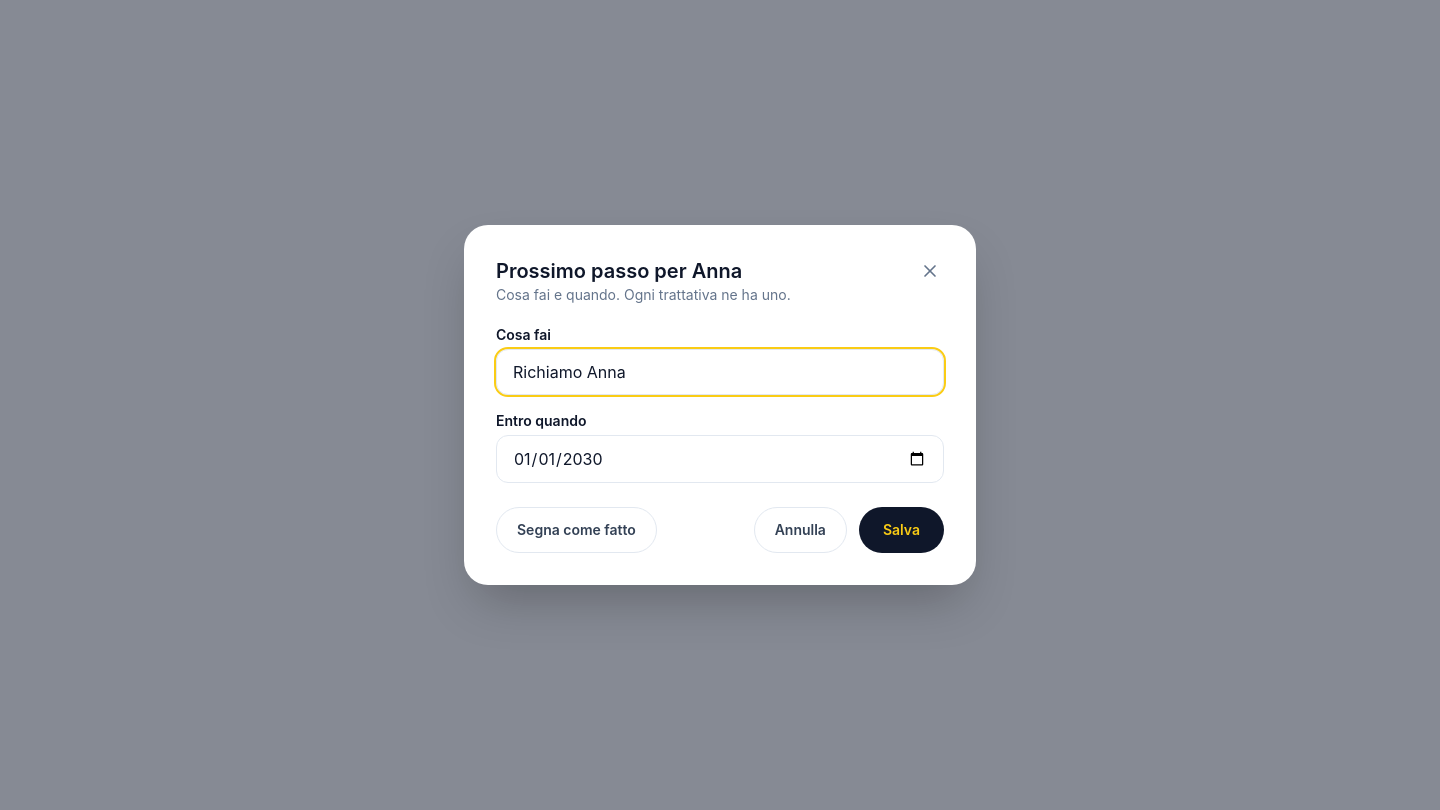
un errore del server si legge e il pannello resta aperto
Click the button "Salva" at (901, 530), box [859,507,944,553]
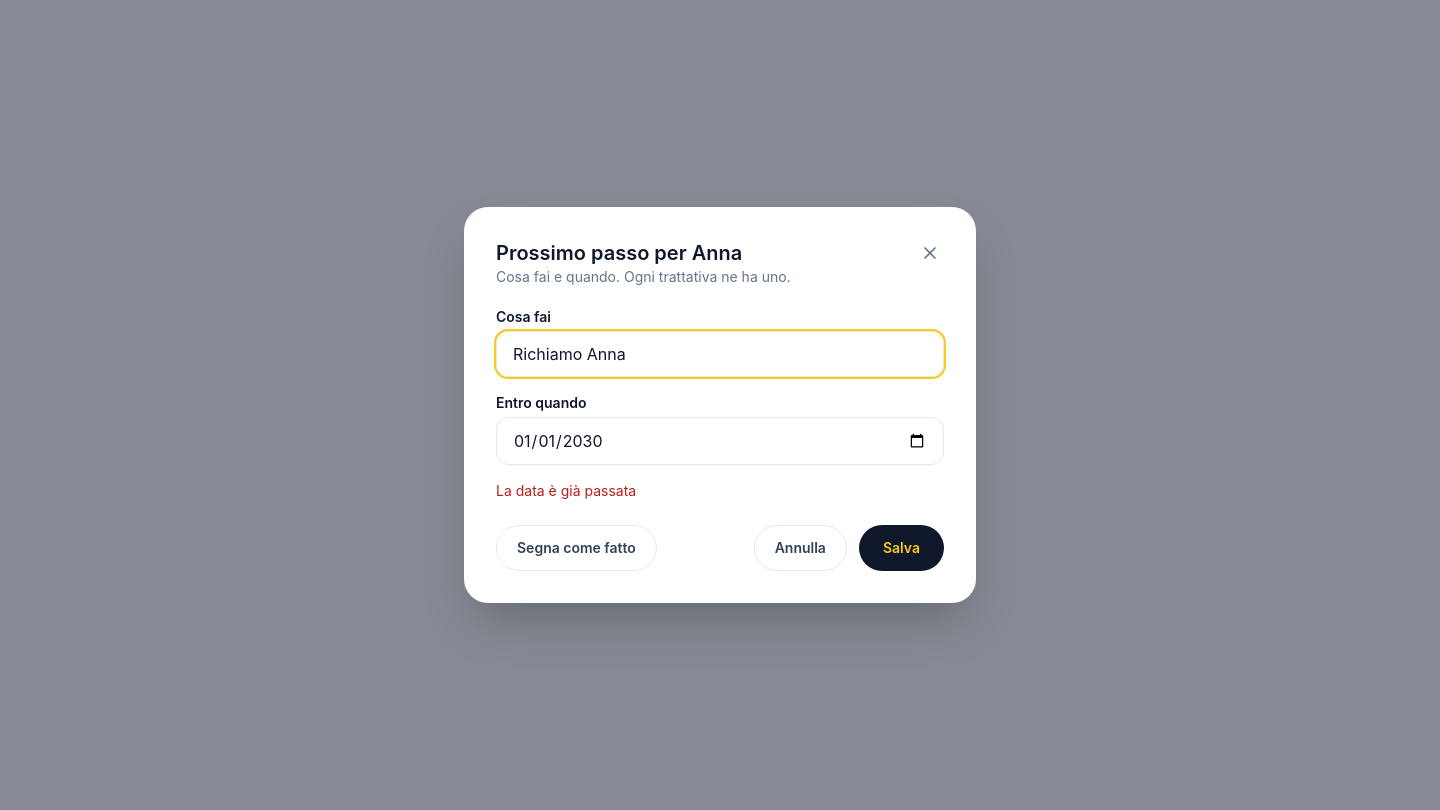
Now the text "La data è già passata" is shown, box [496,482,636,499]
